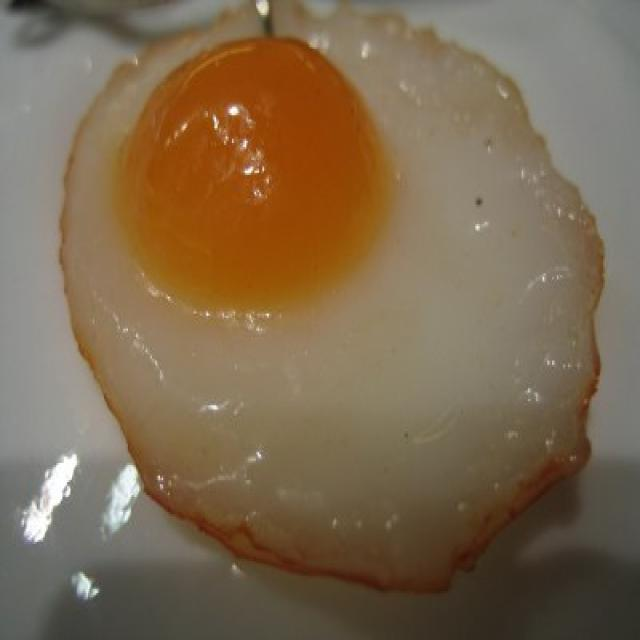Egg: (46, 0, 616, 608)
